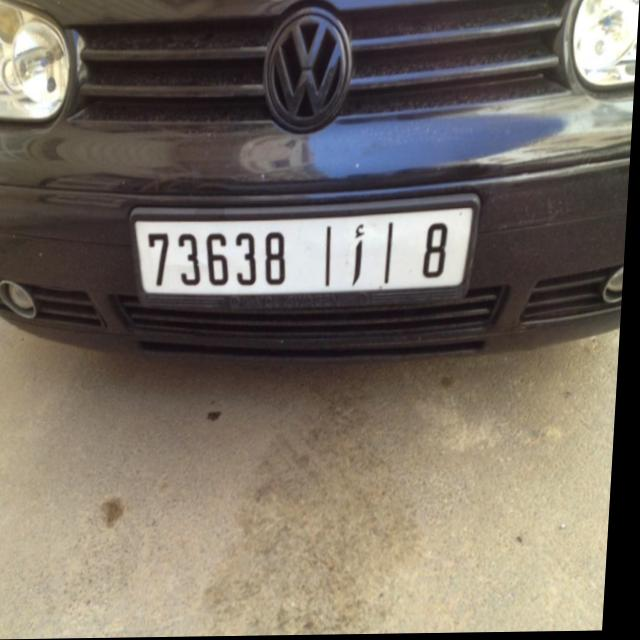License-Plate: (140, 210, 473, 297)
